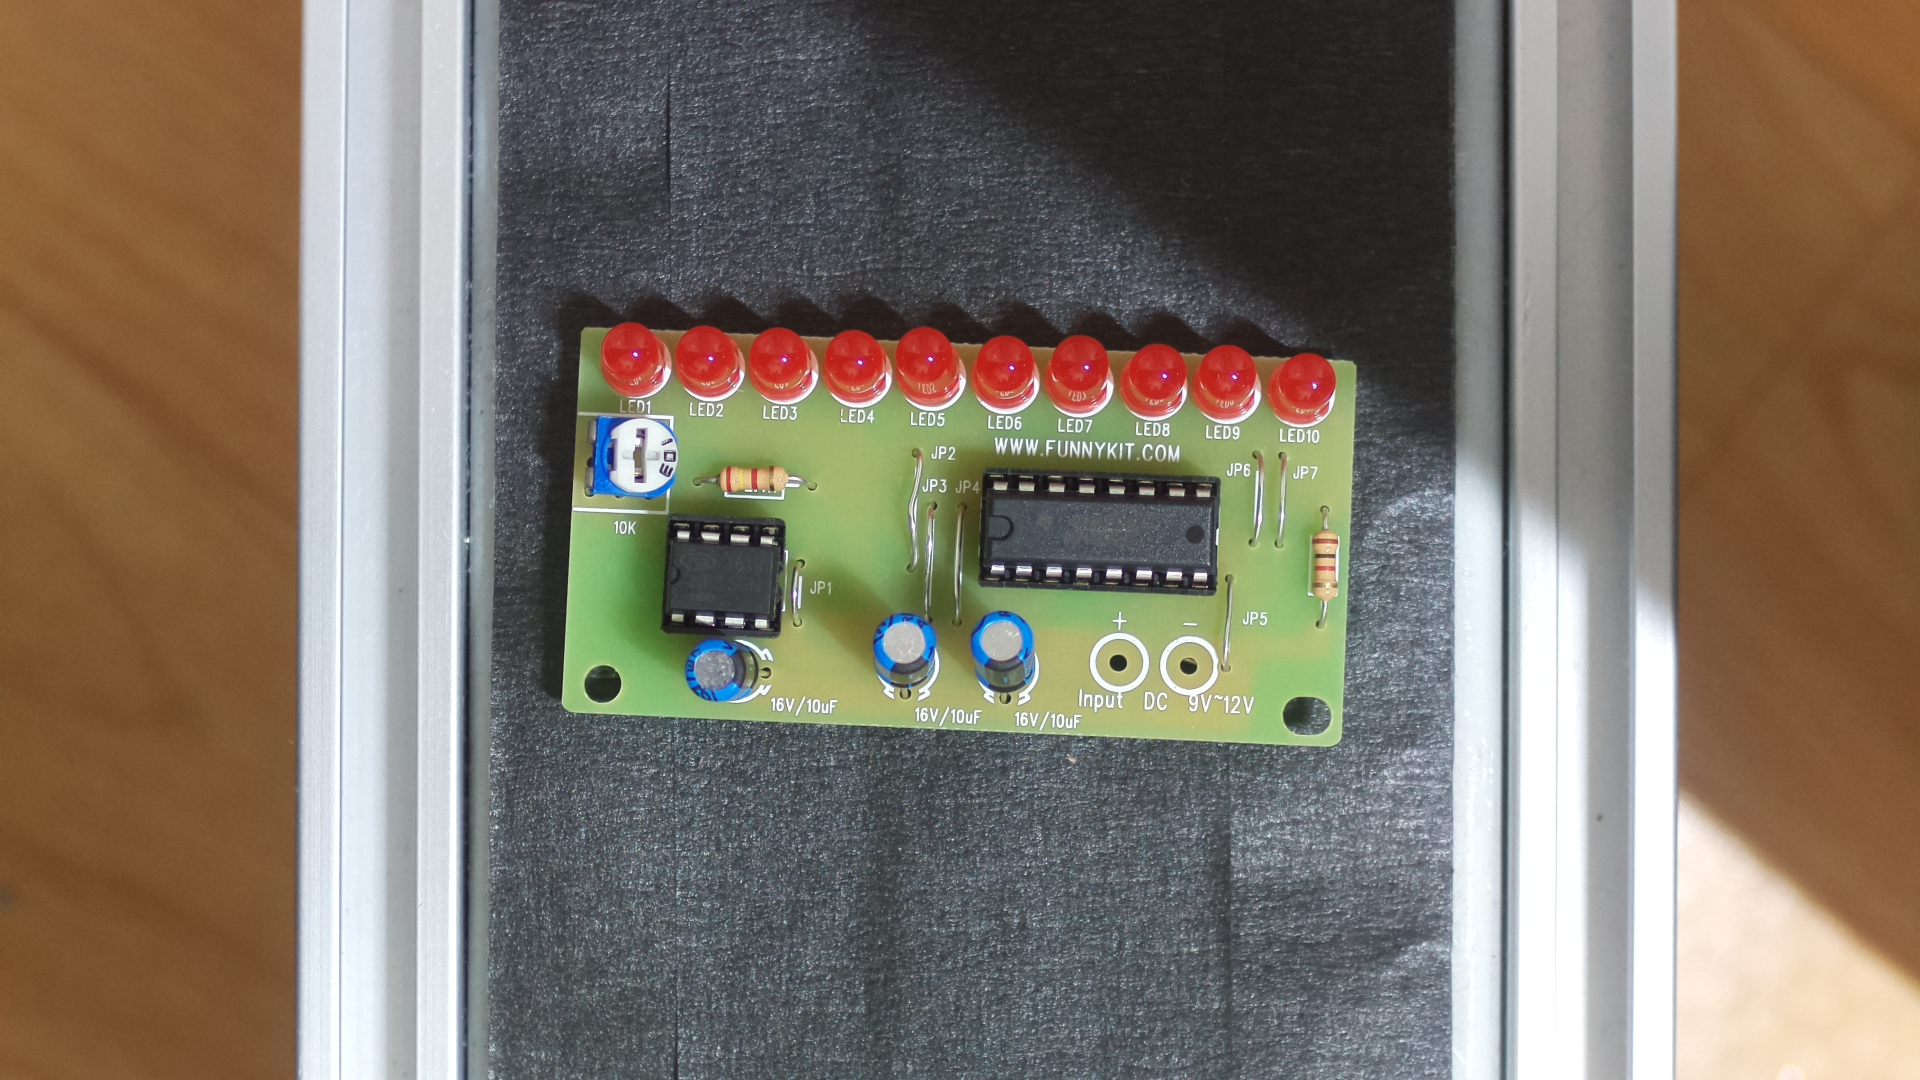B_Normal: (541, 293, 1364, 764)
